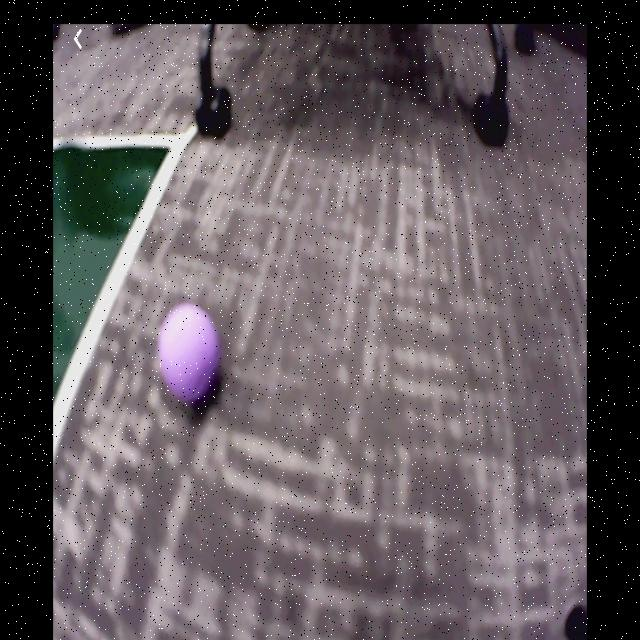ball: (157, 301, 219, 406)
